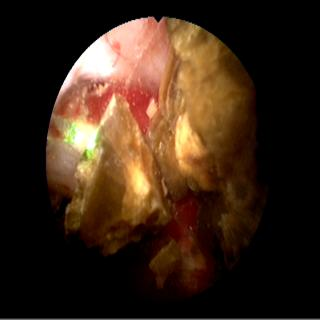laser: (66, 121, 97, 157)
stone: (147, 20, 254, 270), (65, 95, 169, 255), (151, 231, 206, 289), (146, 97, 156, 119)
tissue: (75, 21, 165, 116)
